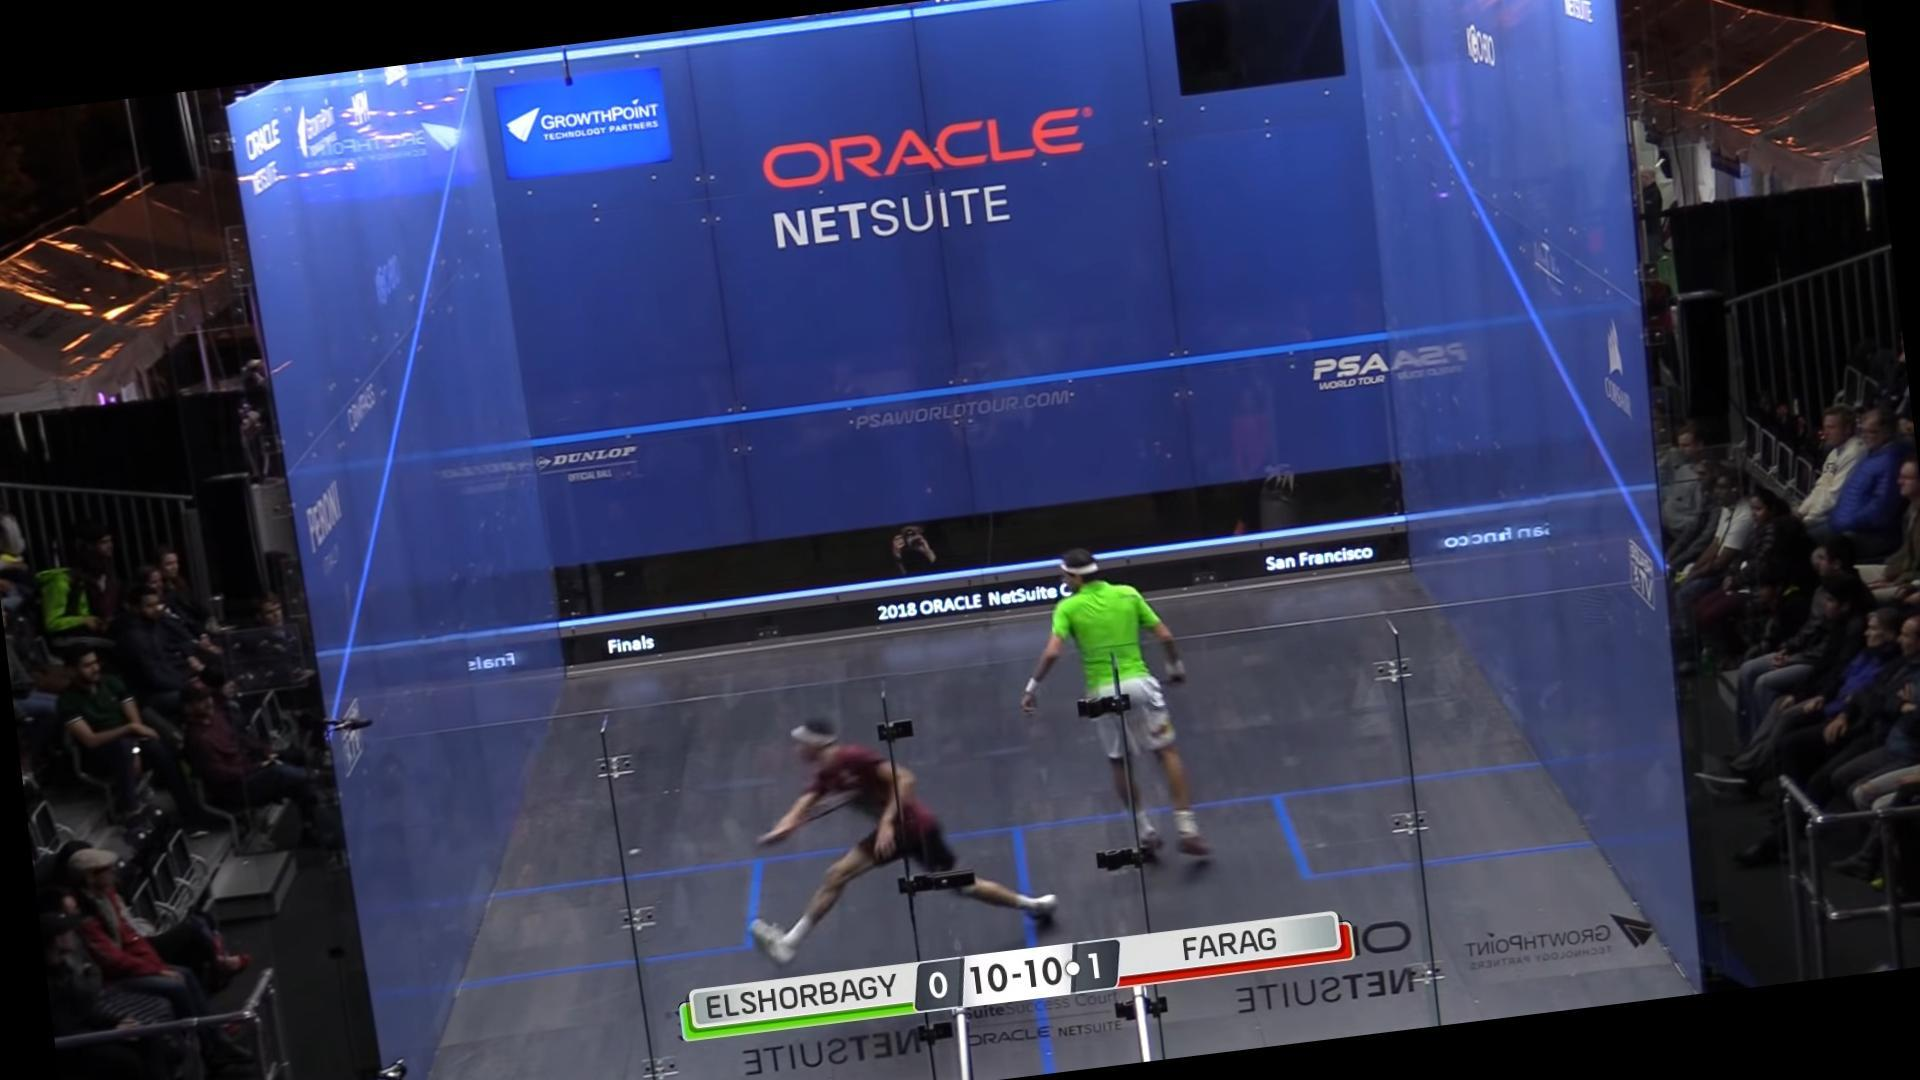Squash-Ball: (622, 836, 649, 864)
